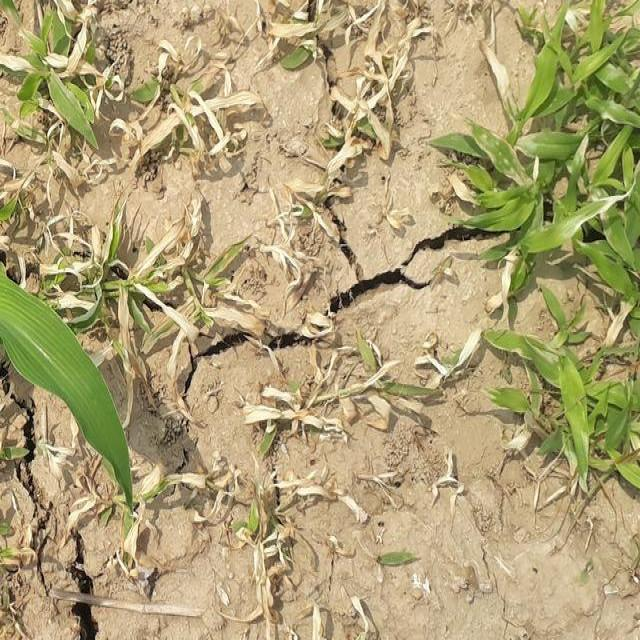weed: (449, 16, 640, 453)
